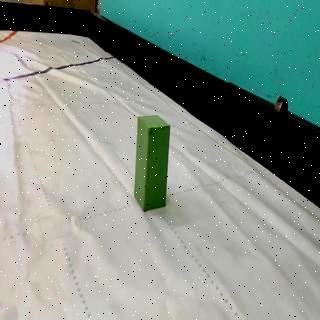greenbox: (132, 114, 172, 214)
